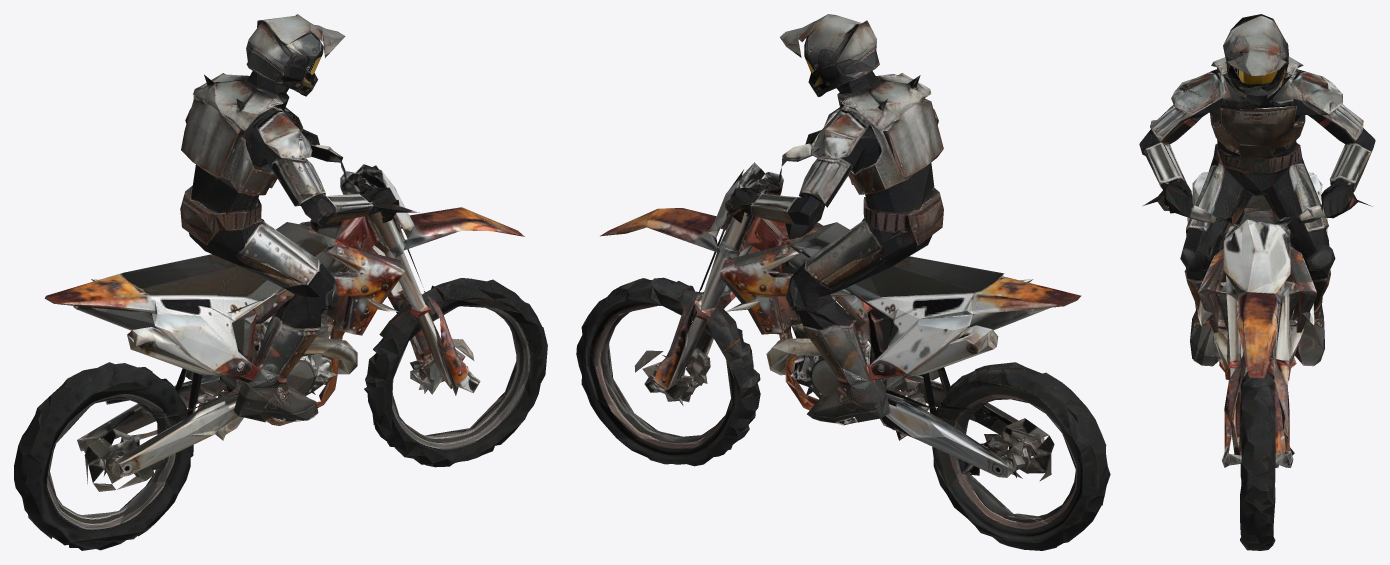
The model's file is moto-carcass.glb.
The picture shows the model from 3 angles, left to right: view 1: azimuth 30°, elevation 25°; view 2: azimuth 150°, elevation 25°; view 3: azimuth 270°, elevation 25°; orthographic projection. The views are drawn at different scales.
Size of the model in its own units: 1.9 by 1.67 by 0.8076.
Materials: 1 (1 with a texture image).
